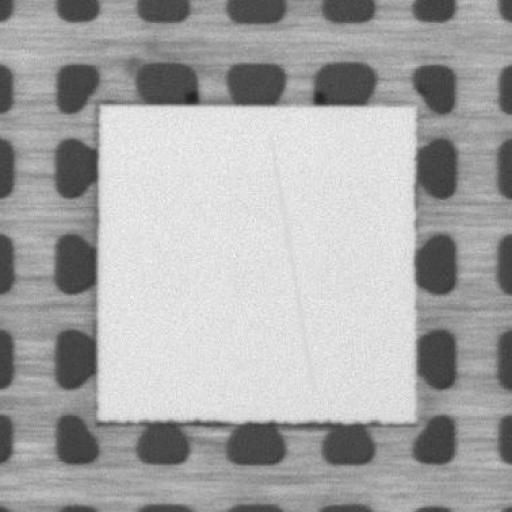DIE_CRACK: (269, 134, 311, 387)
